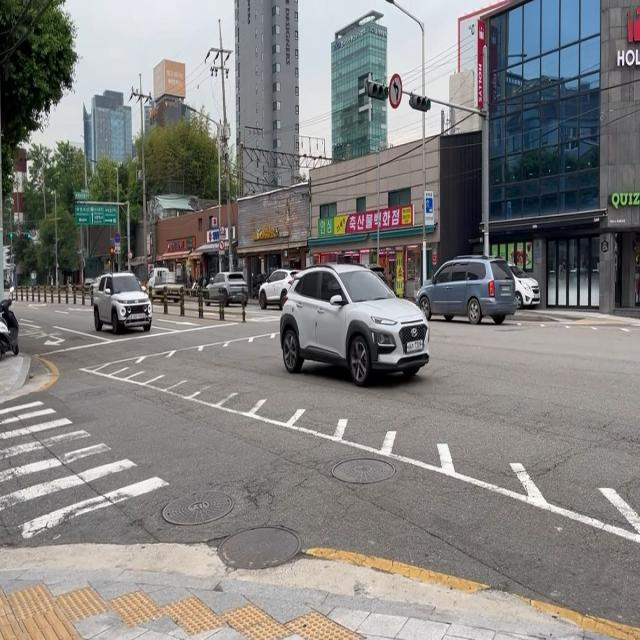building: (457, 0, 640, 236), (232, 0, 299, 197), (84, 66, 156, 212), (330, 11, 388, 162)
car: (279, 261, 429, 387), (423, 239, 526, 349), (75, 250, 176, 352)
